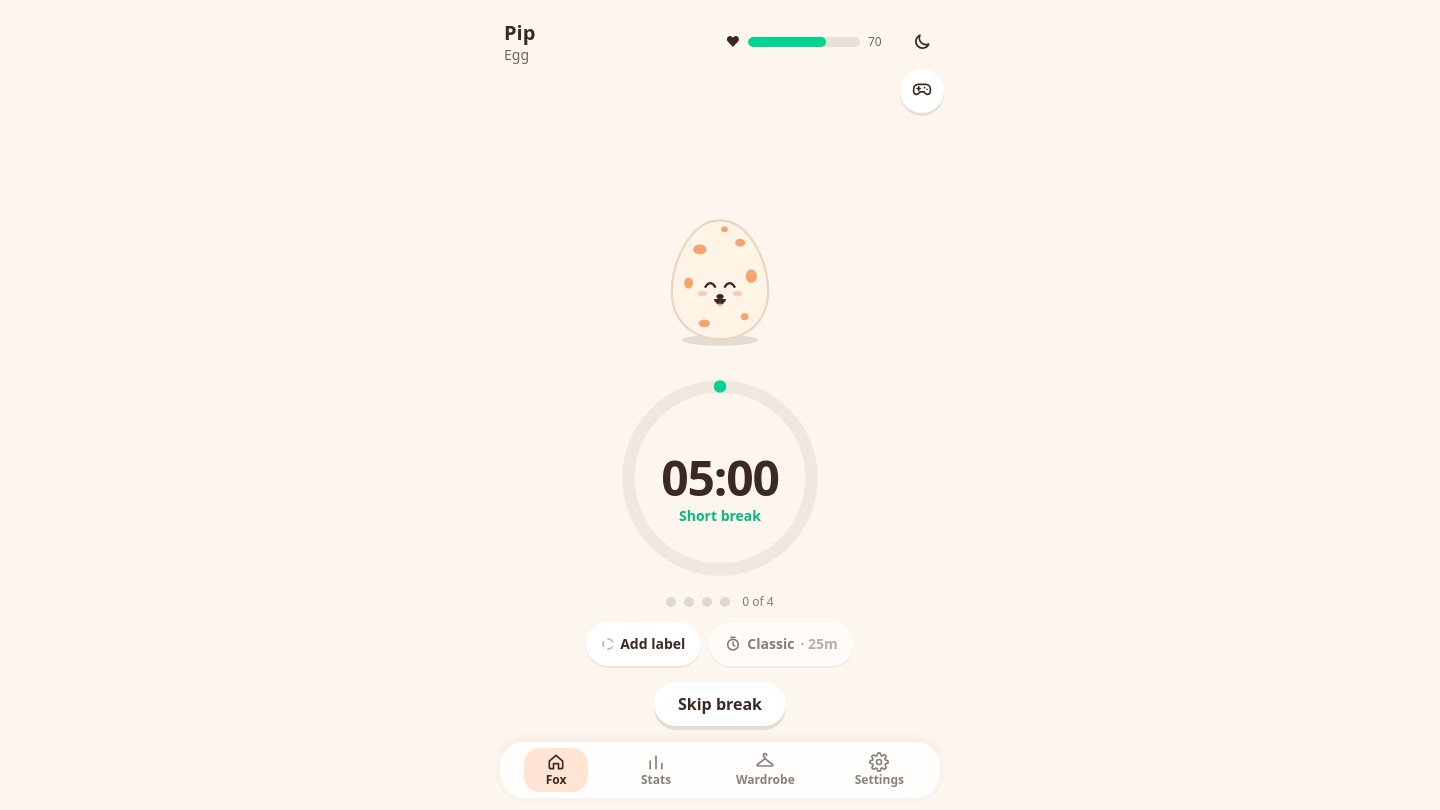
Test: Game picker and screen › shows the break countdown while playing during a break
Click the button named "Play".
click(922, 91)  # box left=900, top=69, right=944, bottom=113
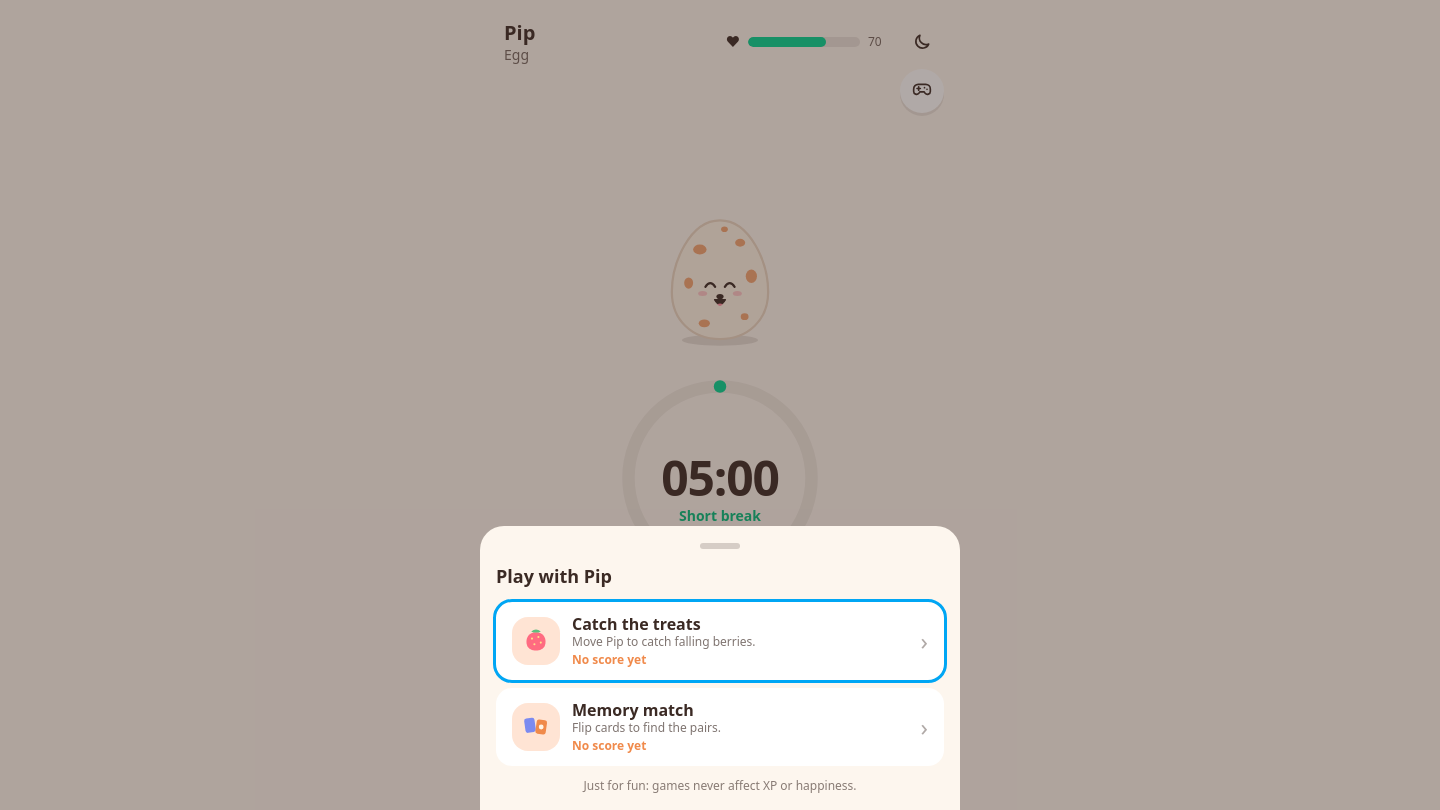
Click the text "Catch the treats".
click(636, 624)  # box left=572, top=613, right=701, bottom=635
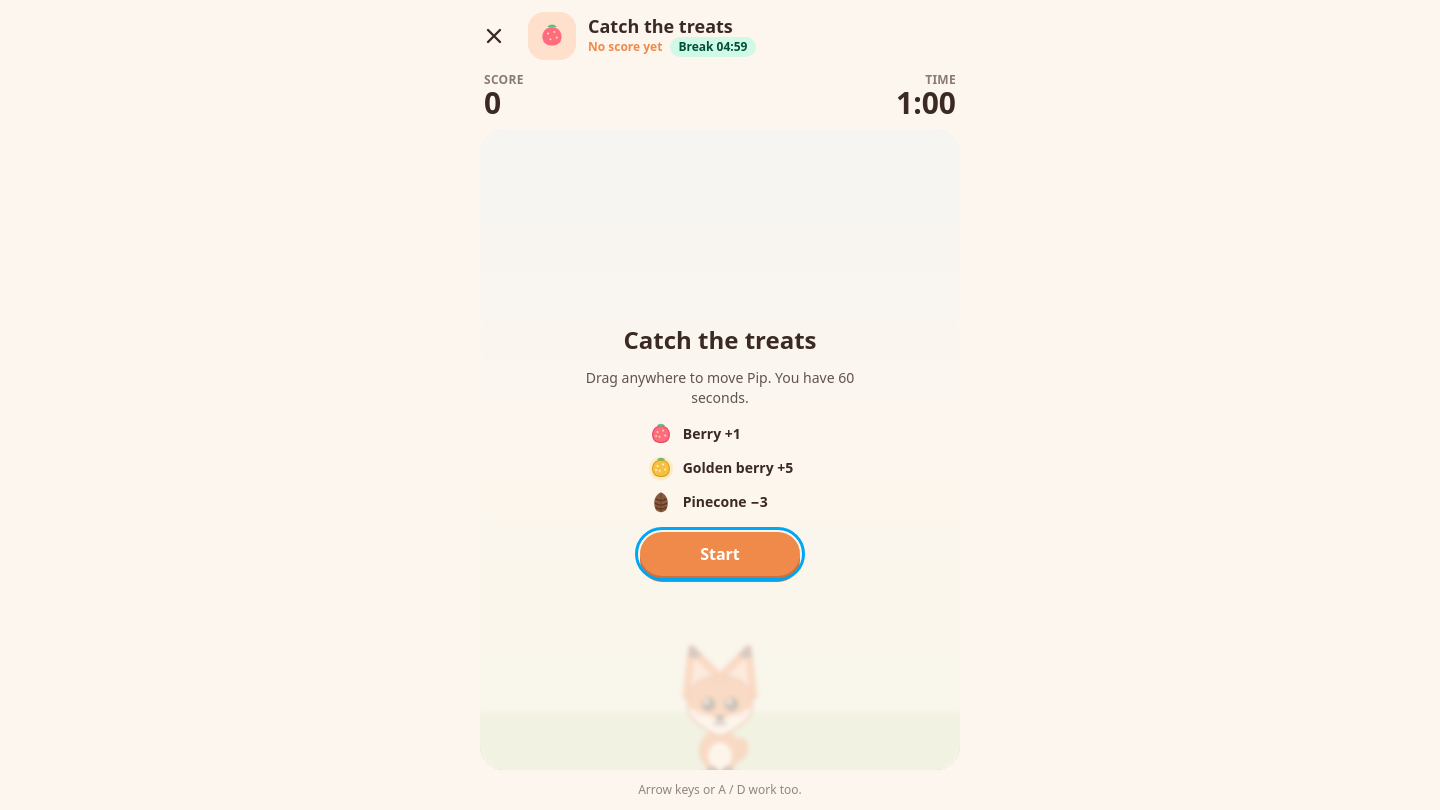
Expected: the text with test id "game-break" reads "Break 04:59", left=670, top=37, right=756, bottom=57
